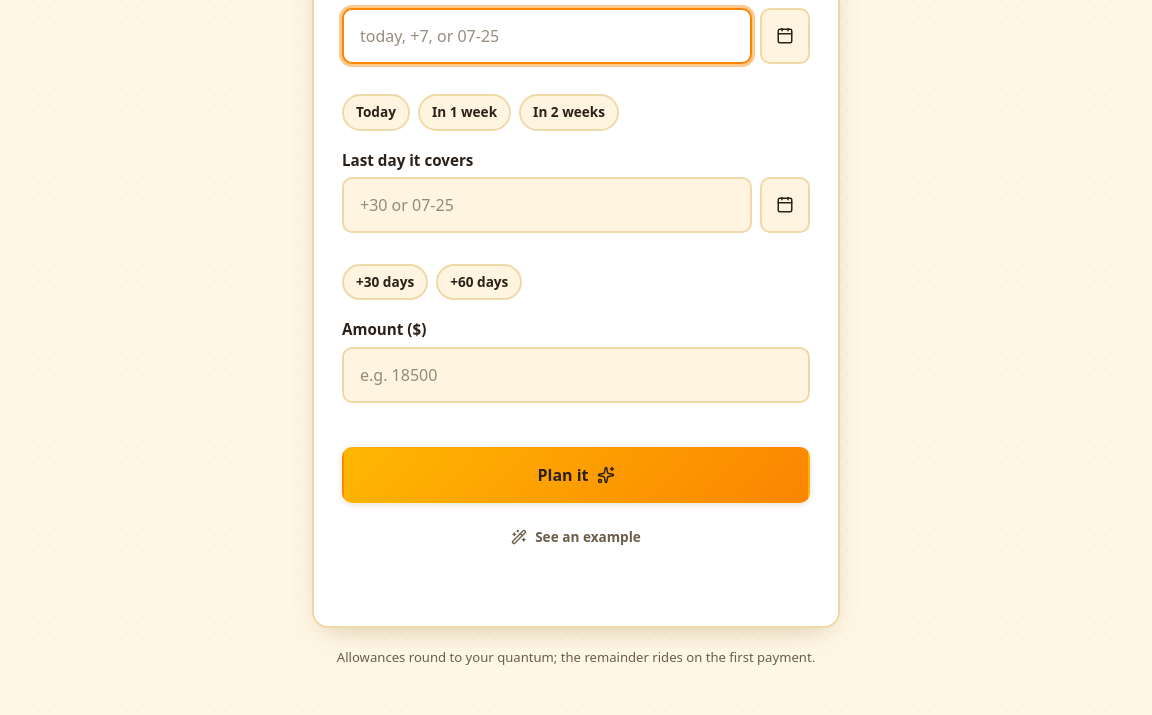
Scenario: App › loads a worked example in one click
The width and height of the screenshot is (1152, 715).
(page scrolled)
Click the button "See an example" at (576, 538), box [501, 521, 651, 554]
(page scrolled)
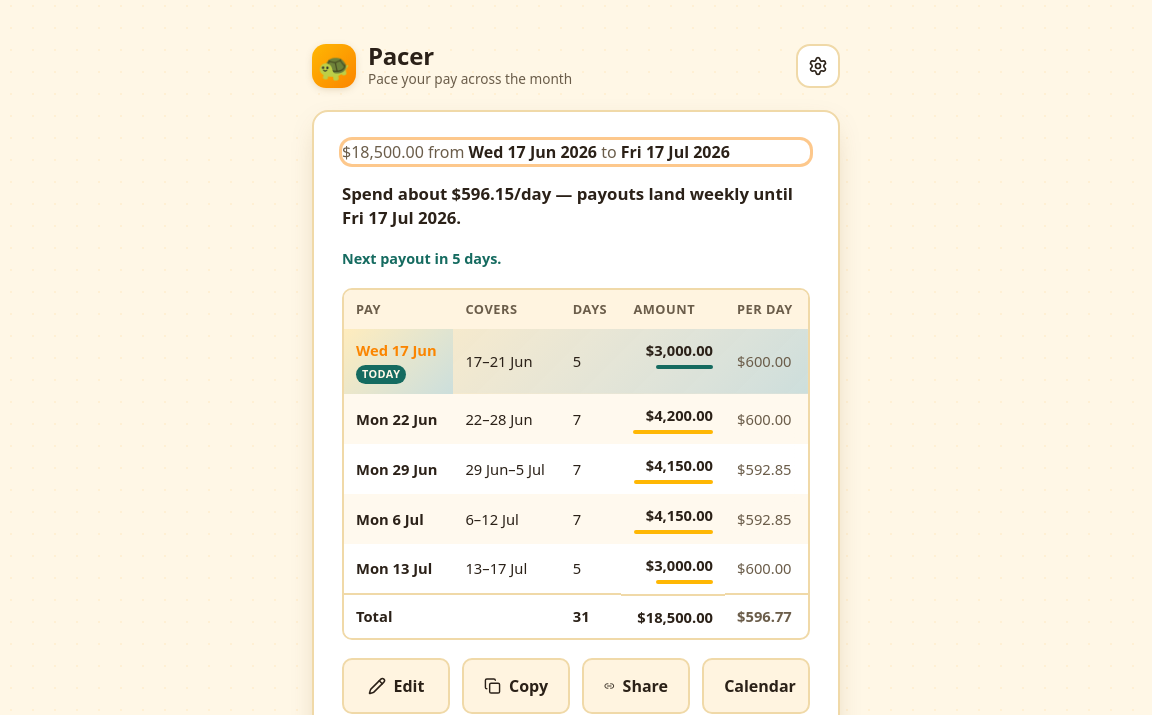
Expected: the table is shown, [344, 290, 808, 638]
Expected: the button "Edit" is shown, [342, 658, 450, 714]
